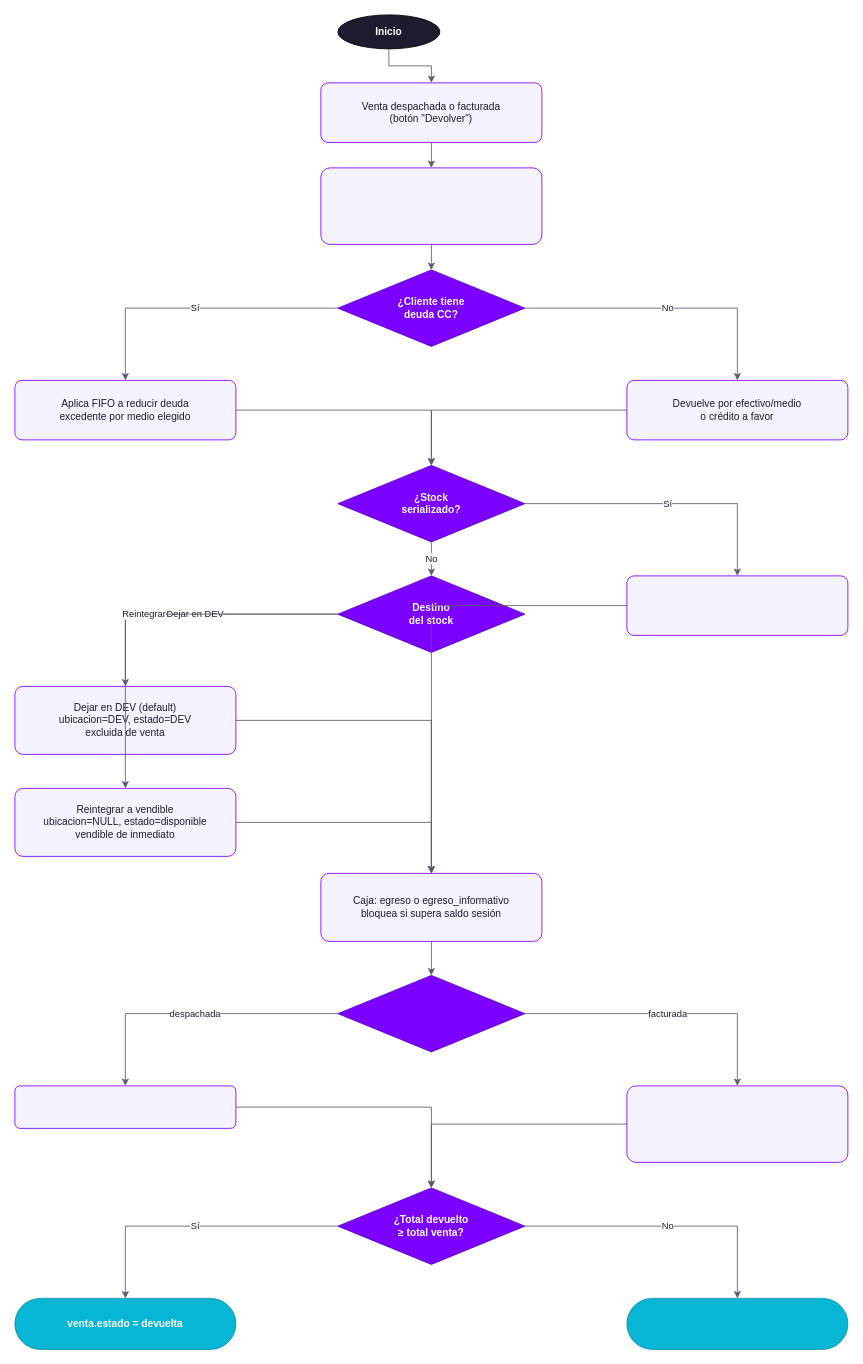
The diagram is 863 pixels wide and 1364 high, and some of its shapes have lost their labels. Here are the shapes that lost their labels. From the top down, the centre of each, then its label:
point 431,205: Modal Devolver: series/cantidad, motivo tope = vendido - ya_devuelto
point 737,605: Reactiva series originales activo=true, reservado=false
point 431,1013: ¿Venta origen?
point 125,1106: Sin NC
point 737,1123: NC interna (no fiscal) + opción NC electrónica AFIP CbtesAsoc → CAE
point 737,1323: Venta sigue despachada/facturada
